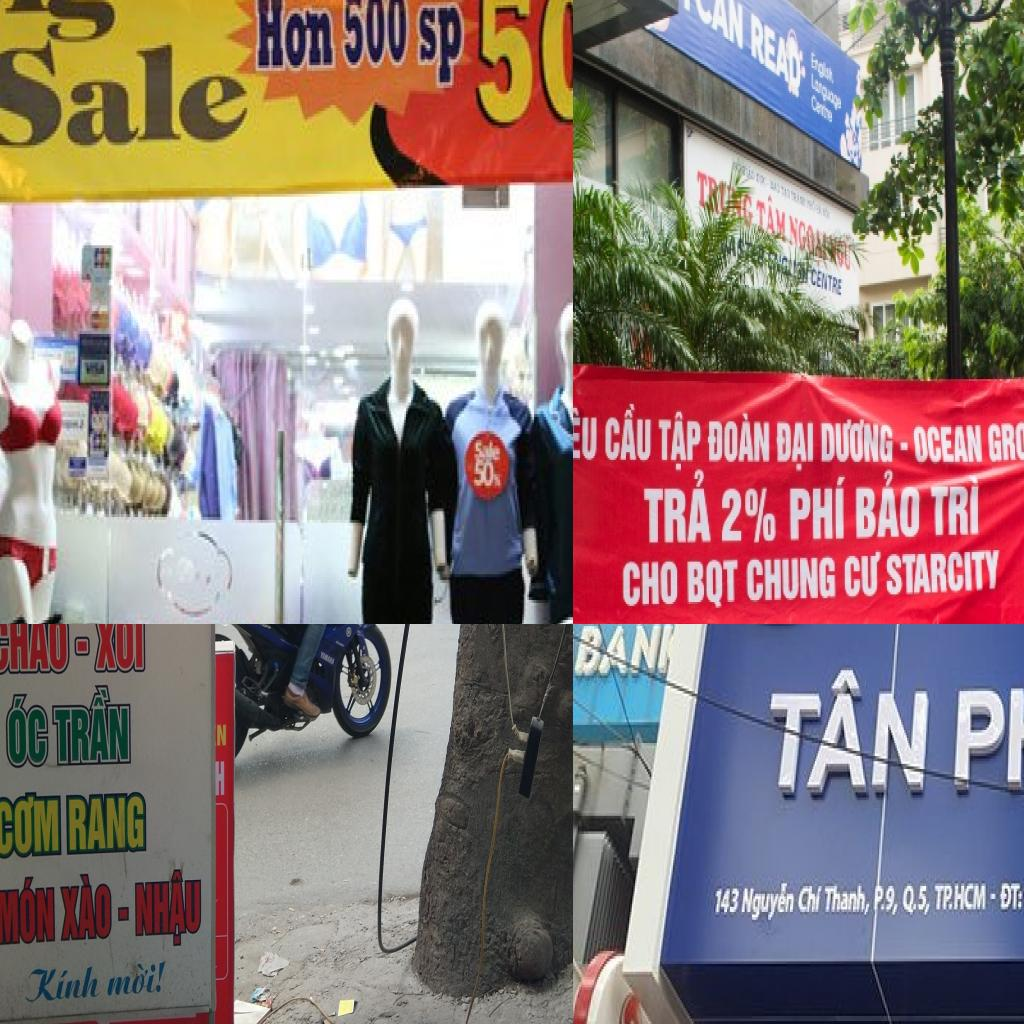text: (0, 42, 252, 162), (764, 657, 946, 808), (948, 646, 1024, 805), (477, 0, 539, 133), (49, 684, 132, 767), (247, 0, 337, 73), (131, 868, 203, 952), (886, 550, 1001, 596), (414, 0, 469, 96), (573, 624, 667, 680), (66, 791, 147, 855), (643, 470, 713, 544), (339, 0, 409, 73), (855, 470, 922, 540), (537, 0, 573, 130), (0, 786, 62, 860), (746, 556, 837, 604), (750, 14, 803, 93), (0, 873, 56, 946), (788, 477, 848, 543), (695, 170, 755, 231), (59, 873, 112, 942), (820, 418, 894, 466), (3, 692, 49, 769), (0, 624, 69, 674), (706, 412, 770, 464), (721, 485, 777, 544), (24, 964, 102, 1005), (930, 475, 980, 537), (604, 404, 652, 464), (739, 880, 799, 928), (691, 0, 745, 52), (622, 560, 680, 608), (913, 425, 983, 464), (91, 624, 145, 674), (686, 560, 739, 610), (658, 412, 701, 473), (821, 876, 875, 922), (104, 959, 168, 997), (930, 878, 990, 917), (774, 422, 816, 474), (789, 216, 828, 271), (844, 552, 882, 600), (757, 189, 787, 247), (987, 419, 1024, 463), (900, 878, 933, 925), (810, 74, 844, 118), (573, 406, 599, 461), (869, 878, 903, 920), (796, 876, 825, 920), (999, 873, 1024, 917), (810, 268, 844, 298), (714, 886, 742, 920), (473, 460, 503, 491), (811, 53, 836, 89), (473, 437, 503, 466), (214, 759, 226, 798), (318, 648, 336, 668), (227, 624, 274, 631), (215, 722, 228, 746), (683, 0, 692, 14)
